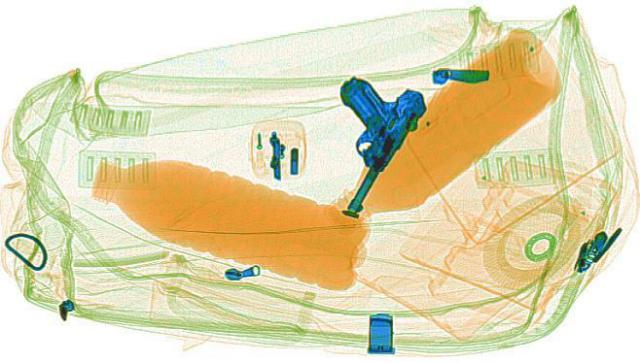Gun: (294, 75, 432, 218)
